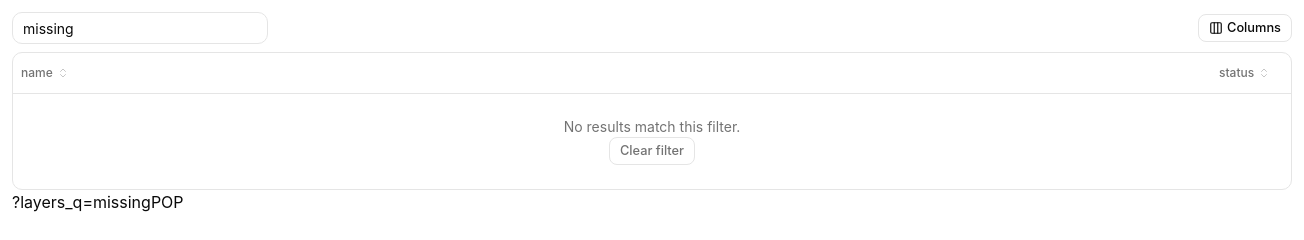
it: DataTable › distinguishes no matches from an empty catalog and offers recovery
The width and height of the screenshot is (1304, 240).
Click the button "Clear filter" at x=652, y=151, box [609,137,695,165]
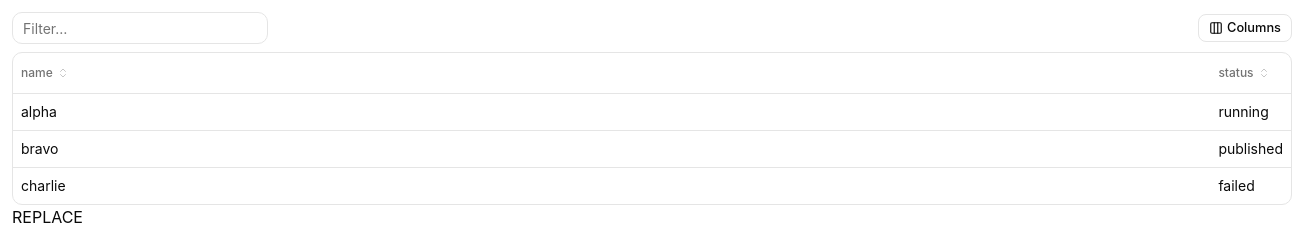
Check: the text "alpha" is shown, box [13,93,1210,130]
